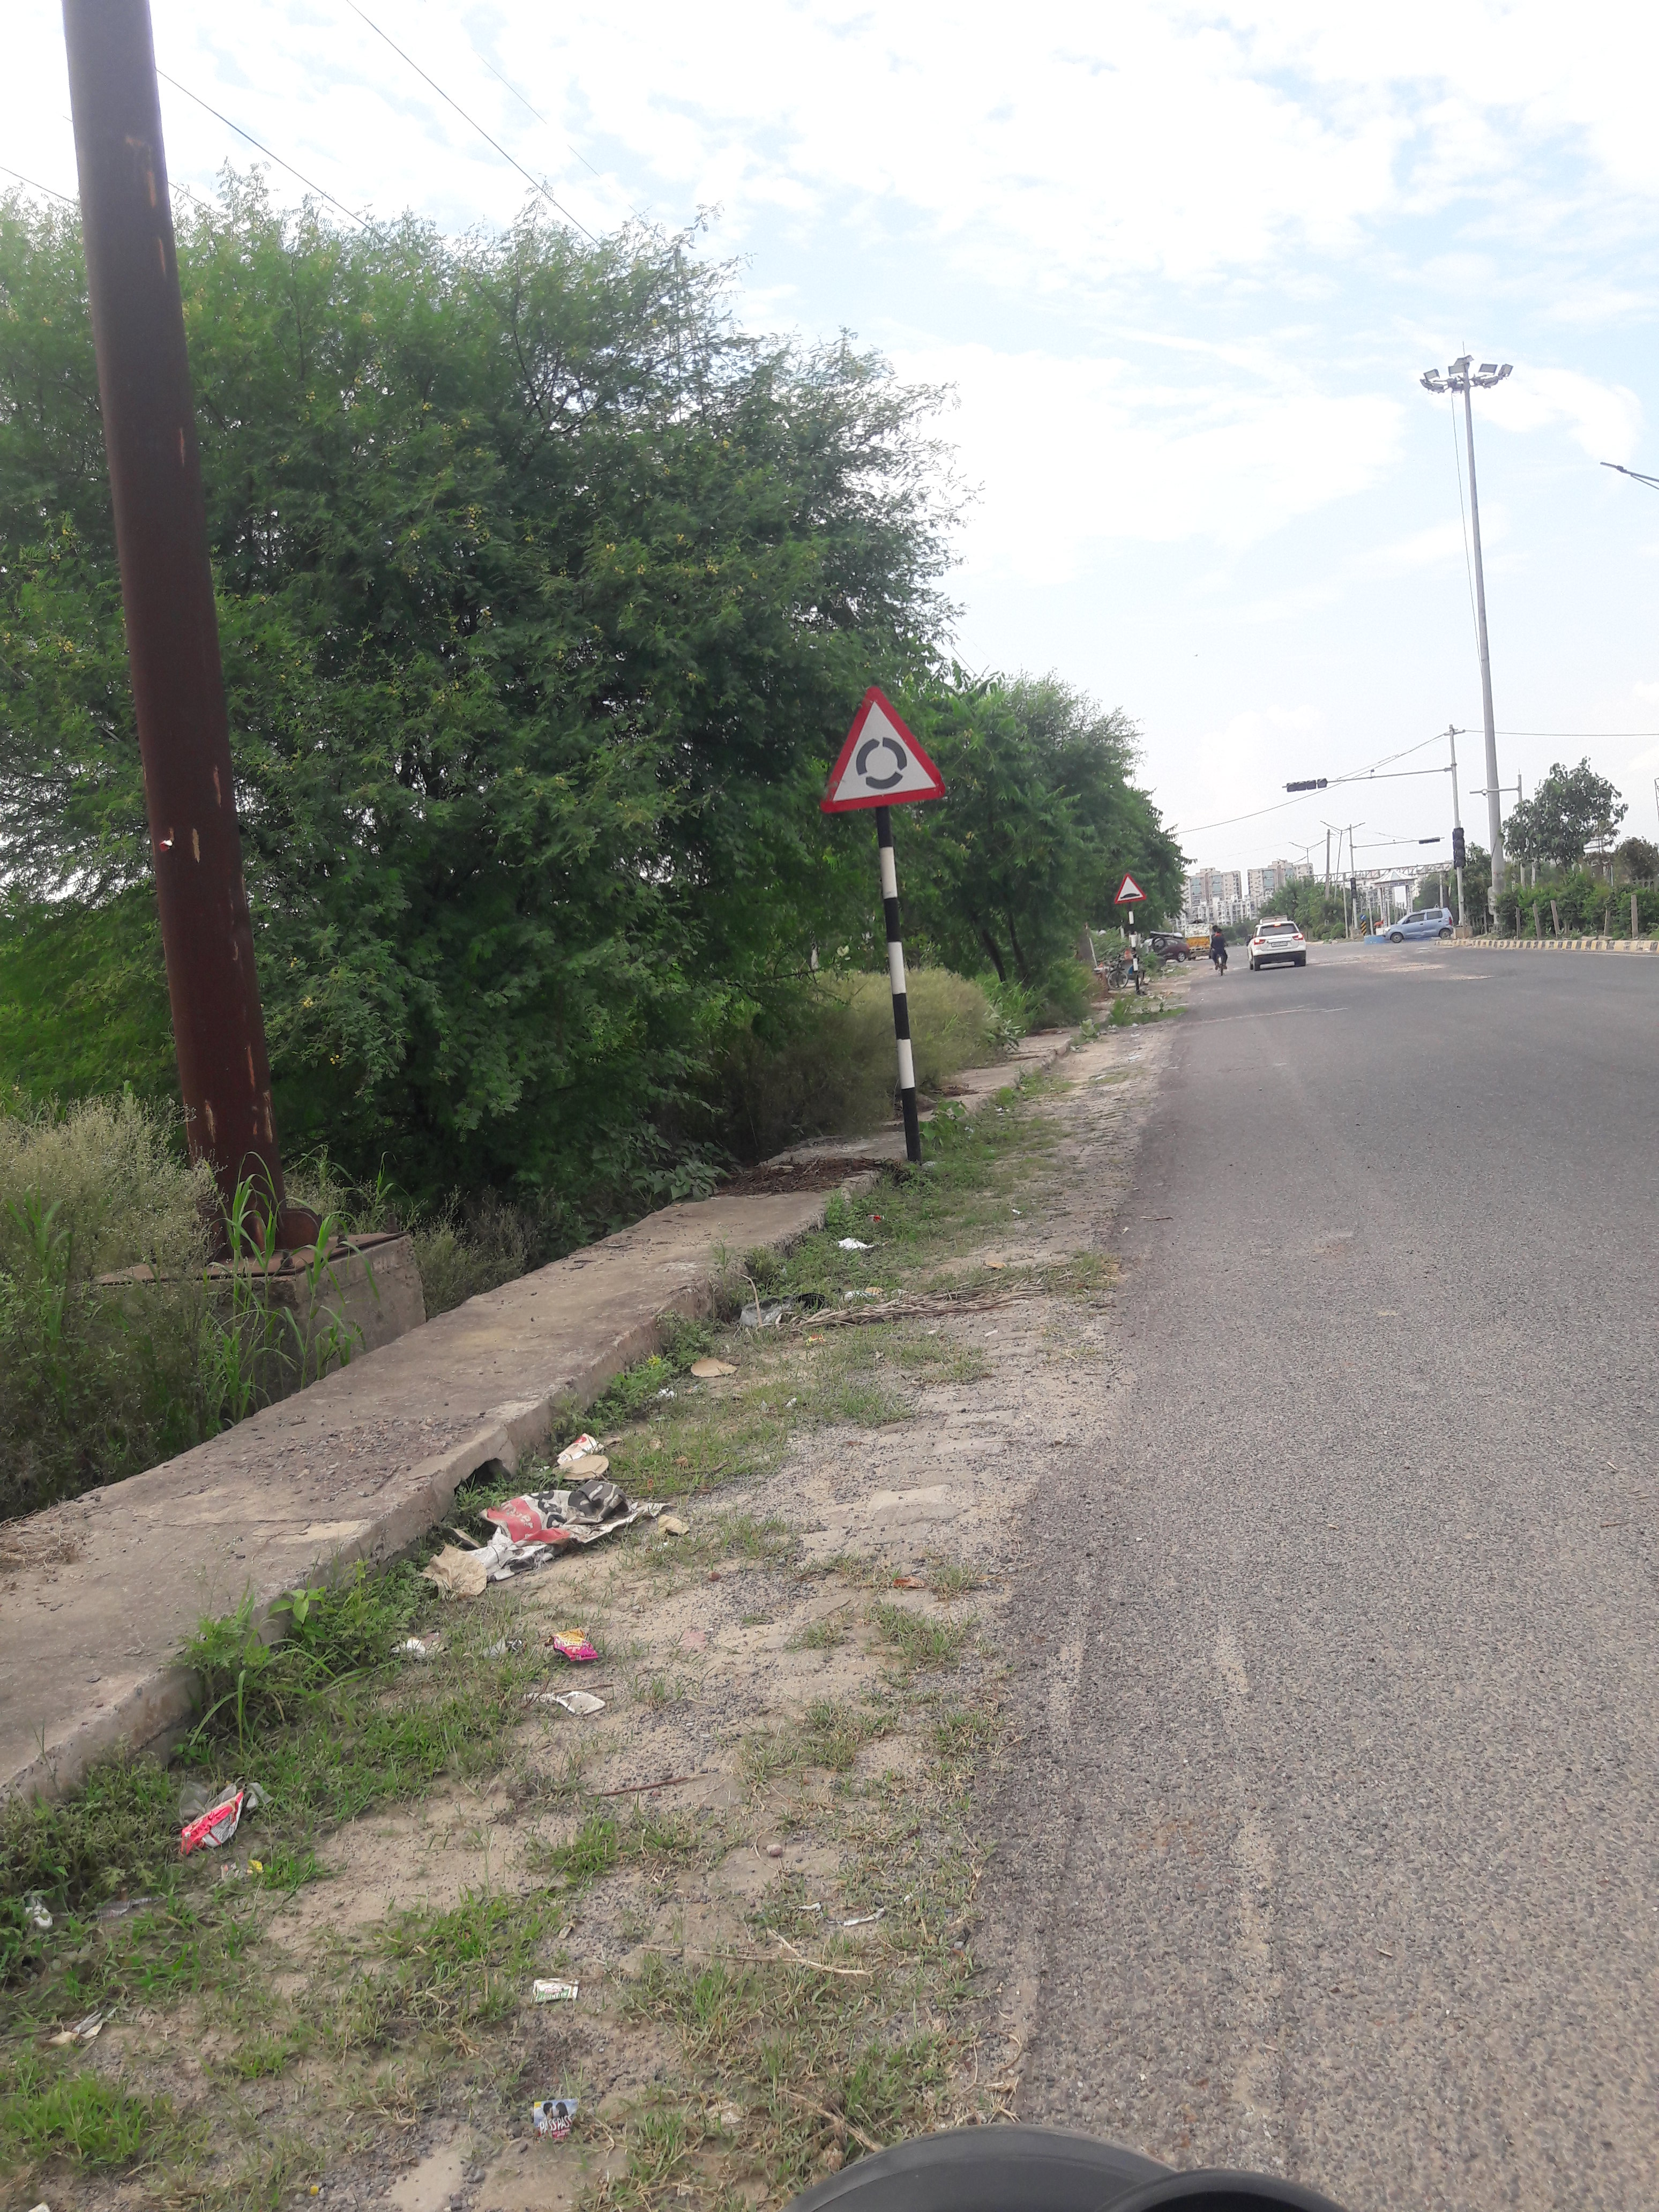traffic_sign: (821, 686, 945, 812), (1115, 873, 1145, 906), (1286, 777, 1326, 792), (1452, 826, 1466, 867)
